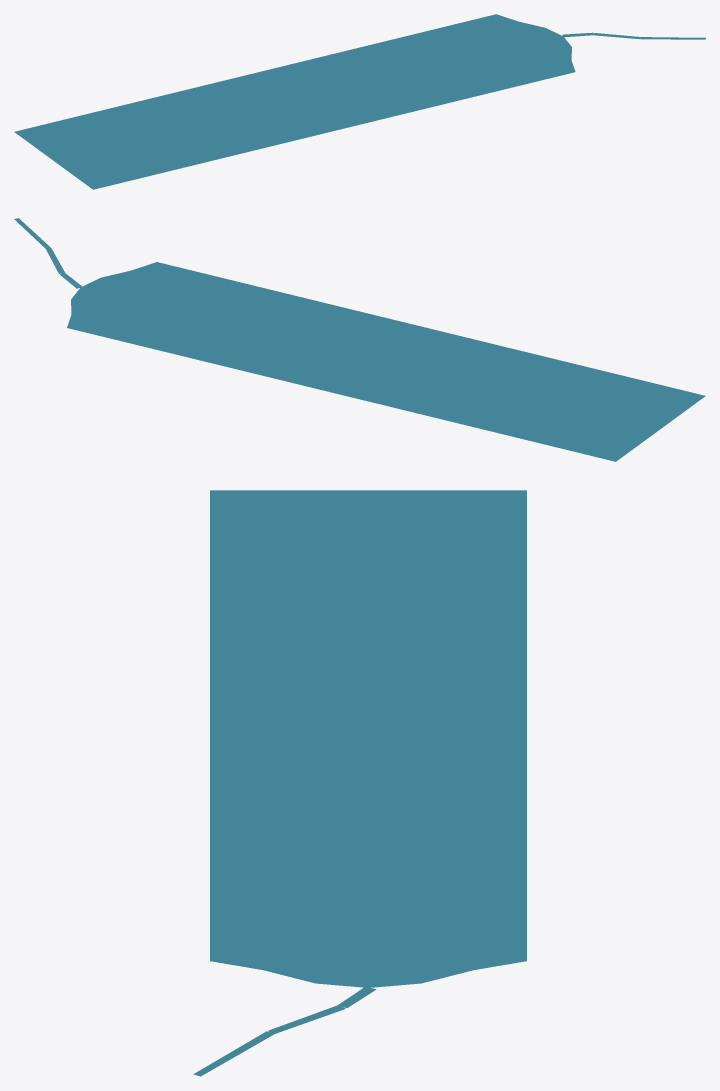
Rendered from town_water.glb.
The picture shows the model from 3 angles, top to bottom: view 1: azimuth 30°, elevation 25°; view 2: azimuth 150°, elevation 25°; view 3: azimuth 270°, elevation 25°; orthographic projection. The views are drawn at different scales.
Visible parts, largest first — view 1: town_bay_water, town_stream; view 2: town_bay_water, town_stream; view 3: town_bay_water, town_stream.
Boxes of the visible parts, x1,y1,x2,y2 form: town_bay_water: [14, 14, 575, 189]; town_stream: [562, 32, 705, 39]; town_bay_water: [67, 262, 705, 461]; town_stream: [14, 218, 82, 288]; town_bay_water: [210, 490, 526, 987]; town_stream: [193, 986, 376, 1076].
Bounding box in the file's own units: 534 × 4 × 126.
